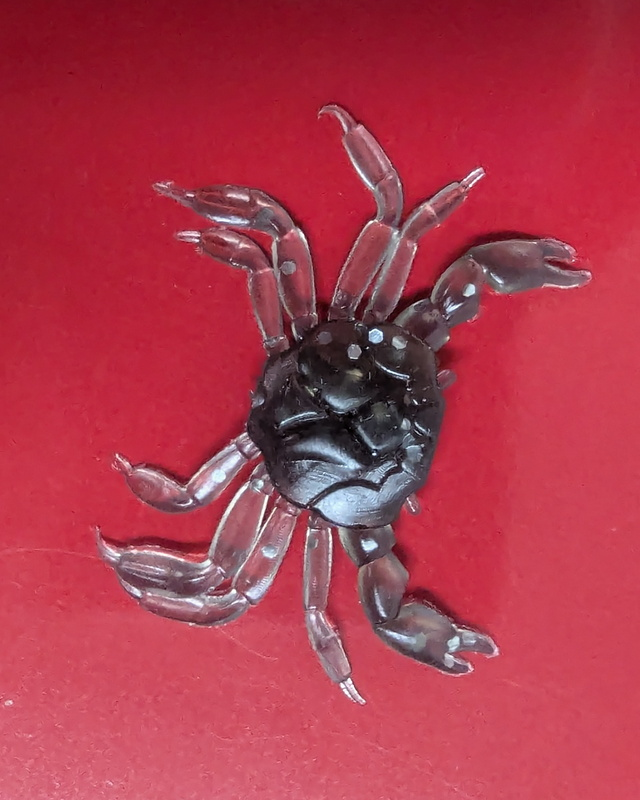crab1: (83, 97, 597, 710)
